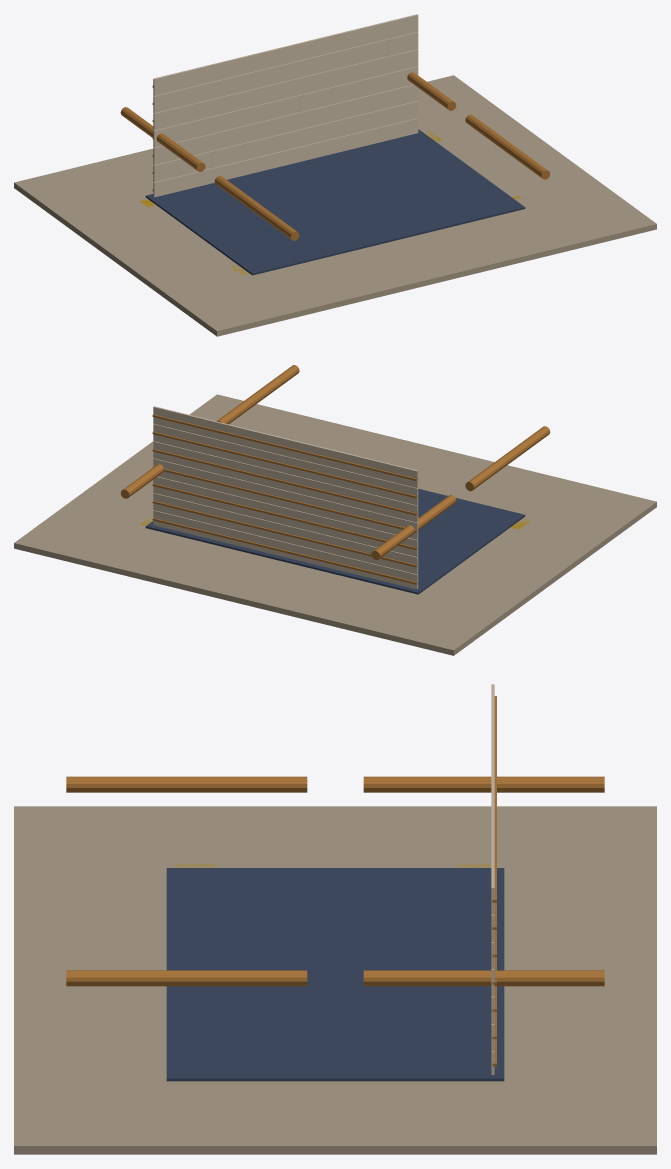
File: stage_04_walls.glb
3 renders of one model, top to bottom at view 1: azimuth 30°, elevation 25°; view 2: azimuth 150°, elevation 25°; view 3: azimuth 270°, elevation 25°, orthographic. The views are drawn at different scales.
Visible parts, largest first — view 1: world; view 2: world; view 3: world.
Boxes of the visible parts, left/top/right/bottom form: world: left=14, top=14, right=656, bottom=336; world: left=14, top=365, right=656, bottom=655; world: left=14, top=684, right=656, bottom=1154.
Bounding box in the file's own units: 10 × 3.41 × 8.
